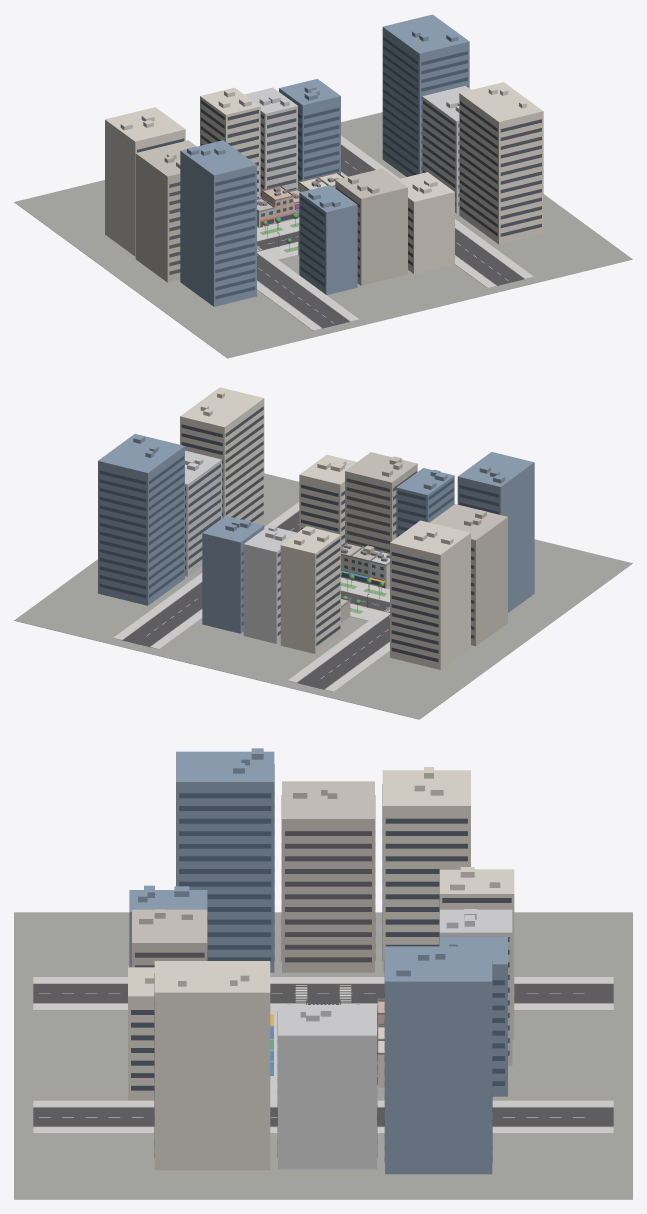
File: area_main_menu.fbx
3 renders of one model, top to bottom at view 1: azimuth 30°, elevation 25°; view 2: azimuth 150°, elevation 25°; view 3: azimuth 270°, elevation 25°, orthographic. The views are drawn at different scales.
Parts seen in each view (by area): view 1: Street, TowerEndFar00, TowerEndNear00, TowerEndFar02, TowerEndNear01, TowerS01, TowerS00, TowerEndNear02, TowerS02, TowerN02, TowerN01, TowerEndFar01 (+2 smaller); view 2: Street, TowerEndFar02, TowerEndNear02, TowerEndFar00, TowerN00, TowerEndNear00, TowerEndNear01, TowerS01, TowerN02, TowerN01, TowerEndFar01, TowerS02 (+3 smaller); view 3: Street, TowerEndFar02, TowerEndFar00, TowerEndNear00, TowerEndNear01, TowerEndFar01, TowerEndNear02, TowerS01, TowerS02, TowerN00, TowerN02, TowerN01 (+1 smaller).
Part boxes in pixels (x1=…): Street: x1=14, y1=112, x2=632, y2=358; TowerEndFar00: x1=459, y1=82, x2=543, y2=244; TowerEndNear00: x1=180, y1=140, x2=256, y2=306; TowerEndFar02: x1=382, y1=14, x2=469, y2=176; TowerEndNear01: x1=135, y1=140, x2=196, y2=282; TowerS01: x1=335, y1=168, x2=407, y2=285; TowerS00: x1=299, y1=185, x2=357, y2=294; TowerEndNear02: x1=105, y1=107, x2=185, y2=256; TowerS02: x1=397, y1=172, x2=454, y2=274; TowerN02: x1=279, y1=79, x2=340, y2=181; TowerN01: x1=244, y1=87, x2=297, y2=197; TowerEndFar01: x1=422, y1=86, x2=470, y2=213; Street: x1=14, y1=473, x2=632, y2=719; TowerEndFar02: x1=98, y1=434, x2=184, y2=605; TowerEndNear02: x1=390, y1=520, x2=470, y2=669; TowerEndFar00: x1=180, y1=387, x2=264, y2=523; TowerN00: x1=280, y1=526, x2=340, y2=653; TowerEndNear00: x1=457, y1=452, x2=534, y2=612; TowerEndNear01: x1=430, y1=504, x2=507, y2=646; TowerS01: x1=345, y1=452, x2=417, y2=552; TowerN02: x1=202, y1=516, x2=264, y2=633; TowerN01: x1=243, y1=525, x2=296, y2=643; TowerEndFar01: x1=185, y1=450, x2=221, y2=576; TowerS02: x1=299, y1=454, x2=356, y2=546; Street: x1=14, y1=912, x2=632, y2=1199; TowerEndFar02: x1=384, y1=946, x2=492, y2=1174; TowerEndFar00: x1=154, y1=961, x2=270, y2=1170; TowerEndNear00: x1=176, y1=748, x2=274, y2=972; TowerEndNear01: x1=281, y1=781, x2=375, y2=972; TowerEndFar01: x1=277, y1=1005, x2=377, y2=1169; TowerEndNear02: x1=382, y1=767, x2=470, y2=972; TowerS01: x1=132, y1=909, x2=207, y2=967; TowerS02: x1=128, y1=967, x2=154, y2=1100; TowerN00: x1=439, y1=867, x2=514, y2=1039; TowerN02: x1=439, y1=937, x2=507, y2=1096; TowerN01: x1=439, y1=909, x2=512, y2=1065.
Bounding box in the file's own units: 17553 × 5662 × 16000.
